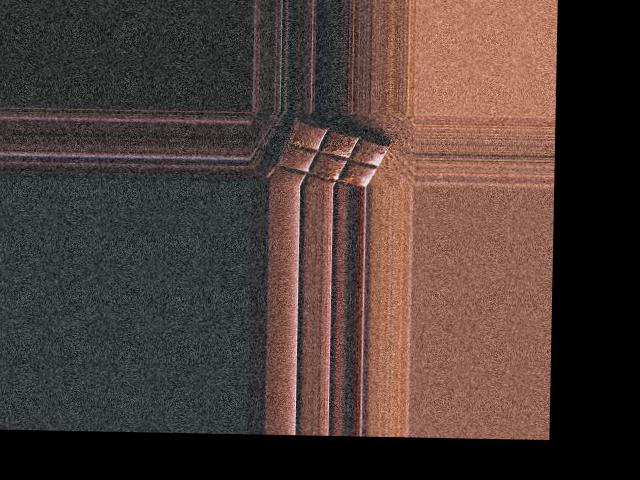chocolate: (268, 117, 396, 186)
